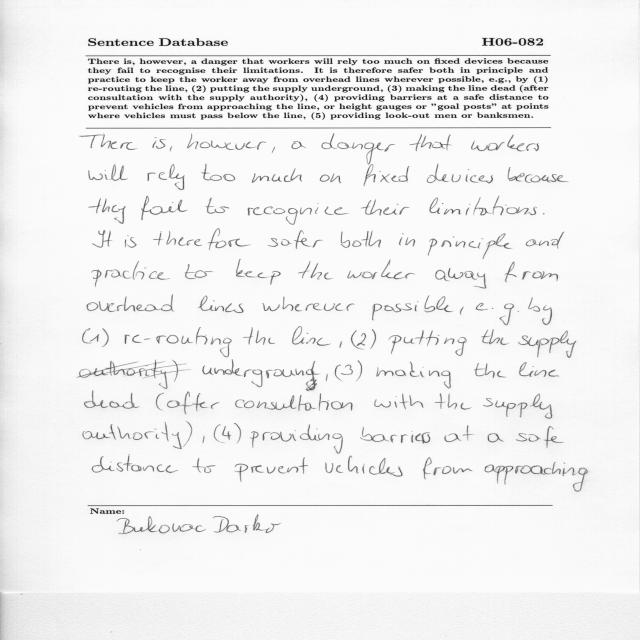word: (77, 360, 320, 391), (484, 462, 588, 492), (132, 327, 232, 357), (83, 422, 182, 449), (262, 424, 343, 454), (322, 134, 396, 165), (248, 203, 349, 225), (428, 233, 513, 259), (235, 393, 353, 411), (153, 229, 251, 250), (429, 196, 537, 215), (372, 295, 454, 320), (93, 261, 170, 287), (235, 457, 309, 482), (483, 394, 553, 419), (403, 330, 467, 356), (518, 330, 576, 358), (326, 456, 403, 477), (92, 455, 178, 473), (395, 362, 451, 389), (87, 295, 175, 312), (263, 297, 355, 312), (348, 260, 416, 280), (187, 134, 266, 150), (427, 164, 493, 183), (167, 392, 220, 415), (360, 427, 430, 444), (236, 259, 281, 285), (471, 135, 539, 152), (141, 196, 188, 220), (505, 262, 558, 283), (423, 458, 473, 480), (435, 268, 486, 289), (516, 426, 564, 448), (268, 230, 323, 249), (364, 164, 410, 186), (85, 391, 140, 409), (508, 167, 569, 183), (148, 164, 185, 190), (89, 198, 126, 224), (80, 134, 137, 150), (476, 303, 514, 325), (361, 199, 410, 216), (198, 295, 243, 313), (292, 326, 331, 346), (252, 168, 302, 183), (374, 394, 423, 409), (409, 134, 452, 151), (341, 231, 381, 248), (528, 297, 552, 325), (89, 164, 128, 181), (526, 232, 564, 249), (298, 261, 332, 280), (435, 393, 472, 410), (519, 362, 559, 377), (201, 164, 235, 181), (243, 327, 275, 345), (445, 425, 475, 442), (474, 363, 507, 378), (481, 329, 509, 345), (185, 264, 213, 279), (205, 198, 229, 214), (93, 230, 113, 248), (193, 458, 216, 473), (214, 424, 231, 443), (335, 365, 353, 381), (351, 331, 366, 350), (389, 335, 402, 354), (83, 329, 99, 344), (184, 421, 193, 446), (399, 233, 415, 247), (320, 174, 341, 184), (152, 137, 166, 149), (125, 235, 137, 248), (250, 431, 259, 448), (488, 434, 504, 443), (234, 423, 241, 443), (377, 368, 394, 376), (156, 393, 164, 410), (102, 328, 109, 347), (356, 361, 362, 382), (292, 141, 307, 149), (370, 329, 376, 349), (125, 335, 130, 344), (460, 306, 464, 315), (339, 341, 342, 348), (272, 147, 275, 153), (326, 374, 328, 382), (203, 436, 205, 443), (170, 146, 172, 152), (543, 213, 544, 215), (518, 311, 519, 312)
